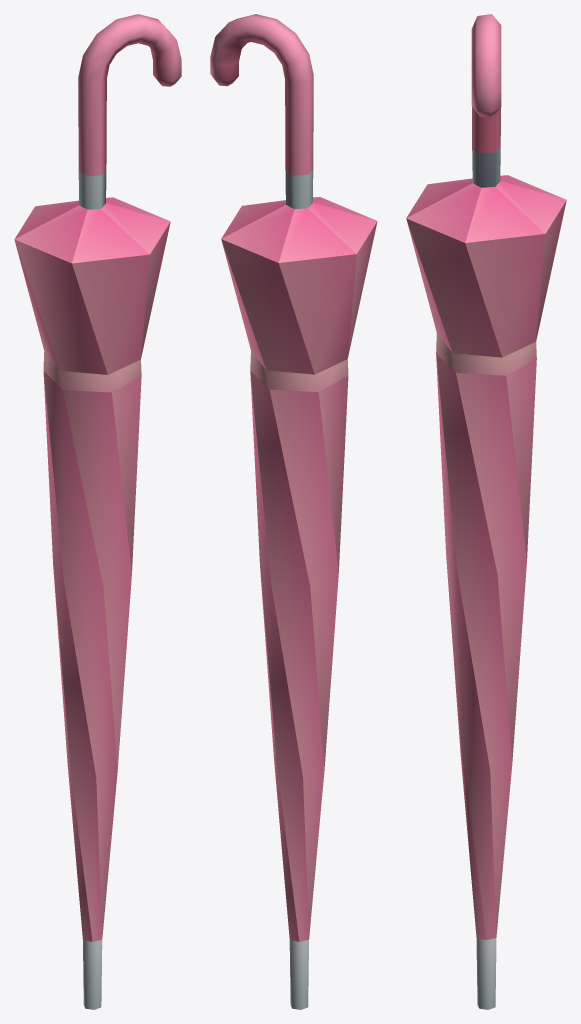
File: CR_Umbrella_02.FBX
The picture shows the model from 3 angles, left to right: view 1: azimuth 30°, elevation 25°; view 2: azimuth 150°, elevation 25°; view 3: azimuth 270°, elevation 25°; orthographic projection. The views are drawn at different scales.
Parts seen in each view (by area): view 1: CR_Umbrella_02; view 2: CR_Umbrella_02; view 3: CR_Umbrella_02.
Boxes of the visible parts, left/top/right/bottom form: CR_Umbrella_02: left=14, top=14, right=181, bottom=1009; CR_Umbrella_02: left=210, top=14, right=377, bottom=1009; CR_Umbrella_02: left=406, top=14, right=566, bottom=1009.
Size of the model in its own units: 10.95 by 66.37 by 9.61.
